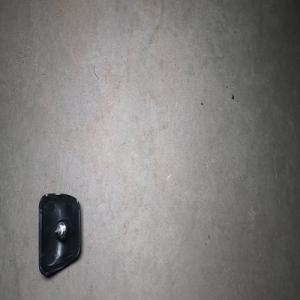LuggagePart: (38, 192, 82, 278)
